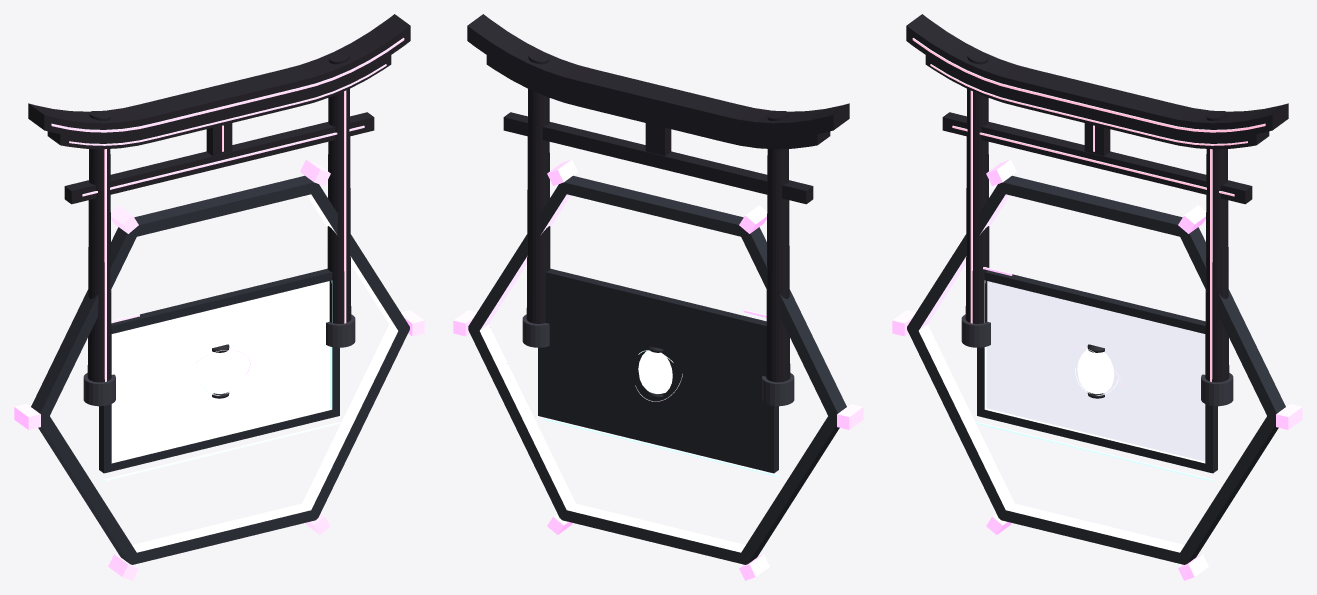
File: dream_model.glb
3 views of the same model, side by side, from view 1: azimuth 30°, elevation 25°; view 2: azimuth 150°, elevation 25°; view 3: azimuth 330°, elevation 25° (orthographic).
Parts seen in each view (by area): view 1: Torii, ScreenFace, Gate, Screen, Lantern; view 2: Screen, Torii, Gate, Lantern; view 3: Torii, ScreenFace, Gate, Screen, Lantern.
Part boxes in pixels (x1,y1,x2,y2): Torii: (28, 14, 410, 406); ScreenFace: (111, 281, 330, 461); Gate: (14, 159, 424, 580); Screen: (99, 268, 340, 481); Lantern: (202, 344, 239, 398); Screen: (538, 268, 779, 476); Torii: (467, 14, 849, 406); Gate: (453, 159, 863, 580); Lantern: (638, 346, 672, 398); Torii: (906, 14, 1288, 406); ScreenFace: (986, 281, 1205, 461); Gate: (892, 159, 1302, 580); Screen: (976, 267, 1217, 481); Lantern: (1077, 344, 1114, 398).
Size of the model in its own units: 11.25 by 13.25 by 1.
